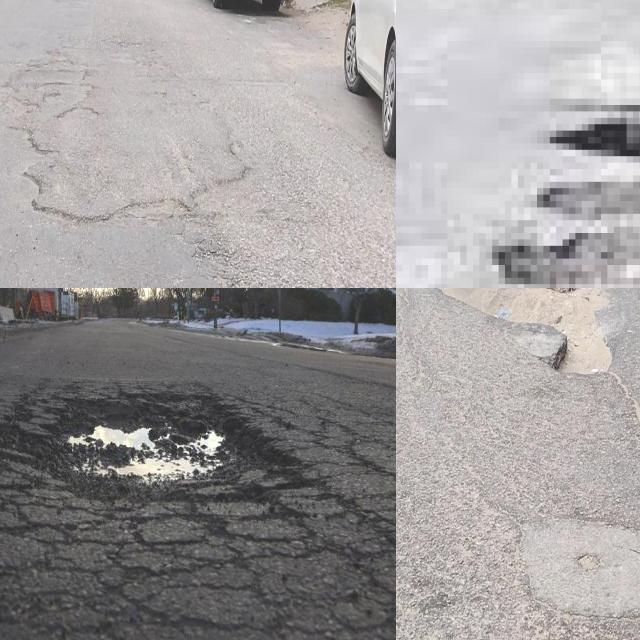Pothole: (0, 386, 302, 482), (492, 182, 640, 288), (550, 111, 640, 163), (551, 325, 619, 378)
